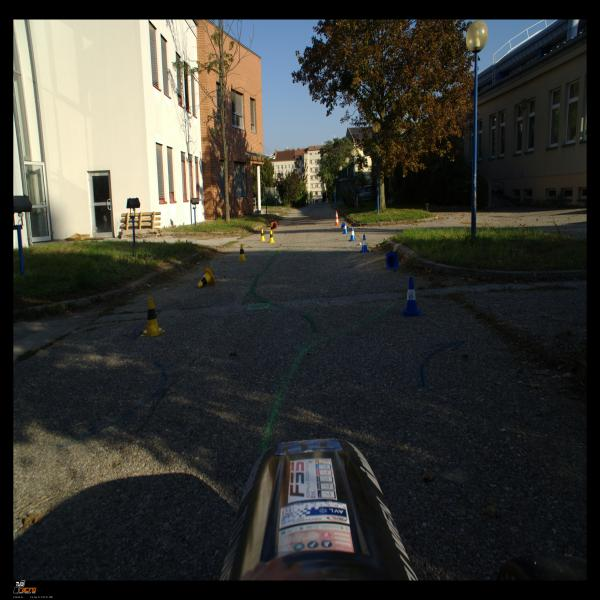blue_cone: (401, 278, 422, 316), (386, 251, 399, 270), (360, 234, 369, 252), (348, 227, 357, 241), (342, 222, 348, 234), (341, 222, 348, 228)
large_orange_cone: (334, 211, 340, 225), (271, 222, 277, 229)
yellow_cone: (140, 297, 165, 336), (197, 268, 215, 288), (238, 244, 248, 262), (268, 230, 275, 243), (260, 229, 265, 241), (270, 224, 274, 234)
